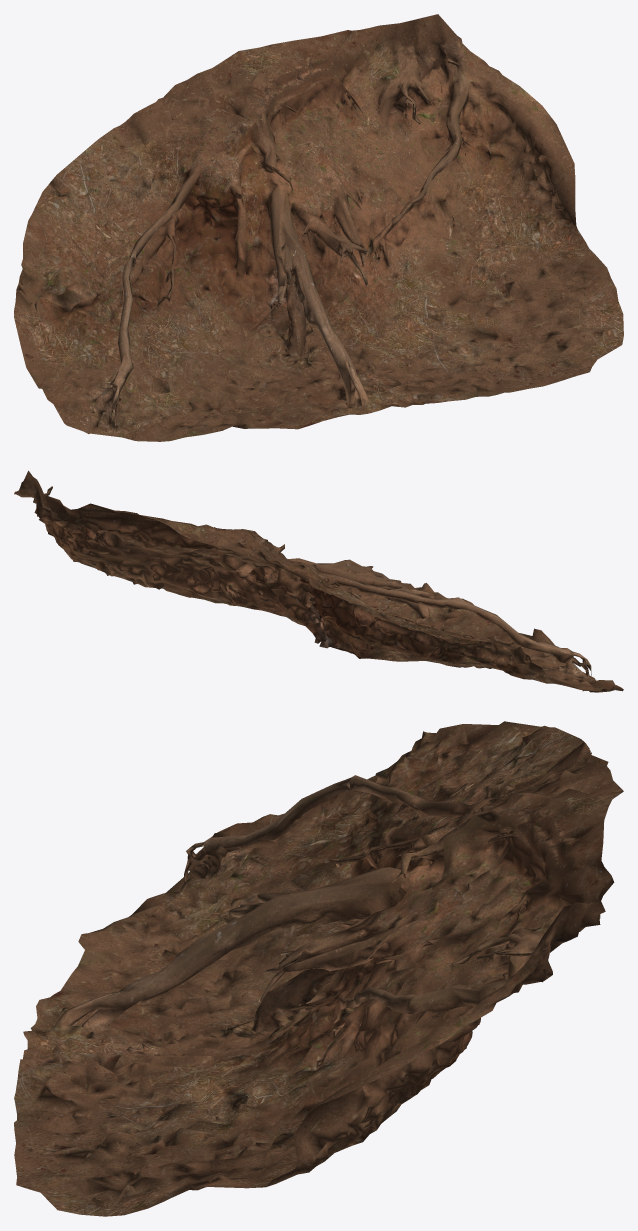
The model's file is root_cluster_01_mobile.glb.
The picture shows the model from 3 angles, top to bottom: view 1: azimuth 30°, elevation 25°; view 2: azimuth 150°, elevation 25°; view 3: azimuth 270°, elevation 25°; orthographic projection. The views are drawn at different scales.
Visible parts, largest first — view 1: root_cluster_01; view 2: root_cluster_01; view 3: root_cluster_01.
Boxes of the visible parts, x1,y1,x2,y2 form: root_cluster_01: [14, 14, 623, 441]; root_cluster_01: [14, 470, 623, 692]; root_cluster_01: [14, 721, 623, 1216].
Size of the model in its own units: 4.12 by 1.51 by 2.68.
Materials: 1 (1 with a texture image).
